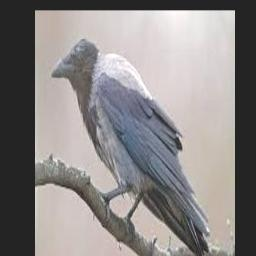Crow: (51, 37, 210, 256)
